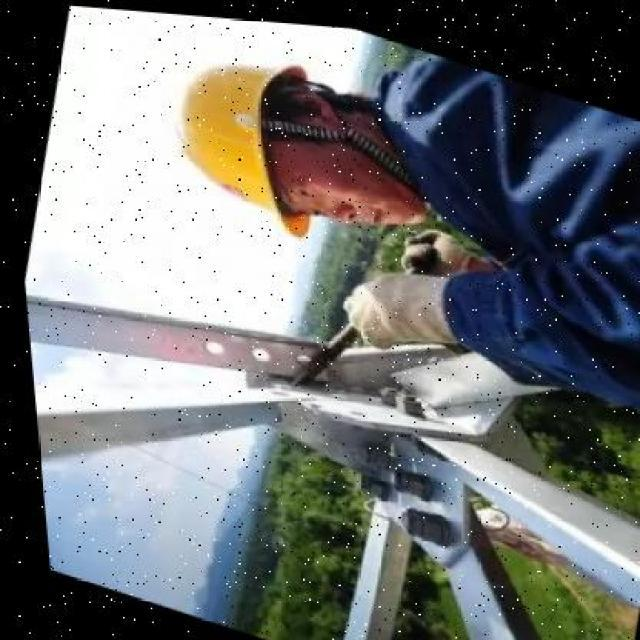helmet: (149, 23, 353, 245)
